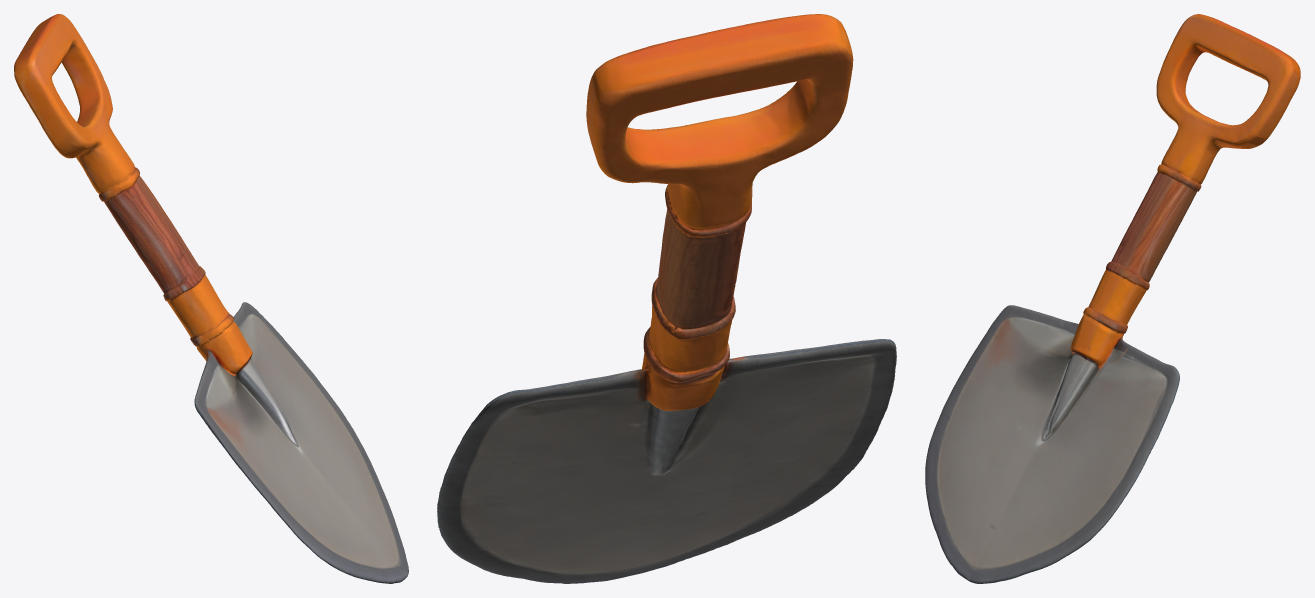
The model's file is shovel.glb.
3 renders of one model, left to right at view 1: azimuth 30°, elevation 25°; view 2: azimuth 150°, elevation 25°; view 3: azimuth 270°, elevation 25°, orthographic. The views are drawn at different scales.
Size of the model in its own units: 1.26 by 2 by 1.49.
1 material, 1 textured.
